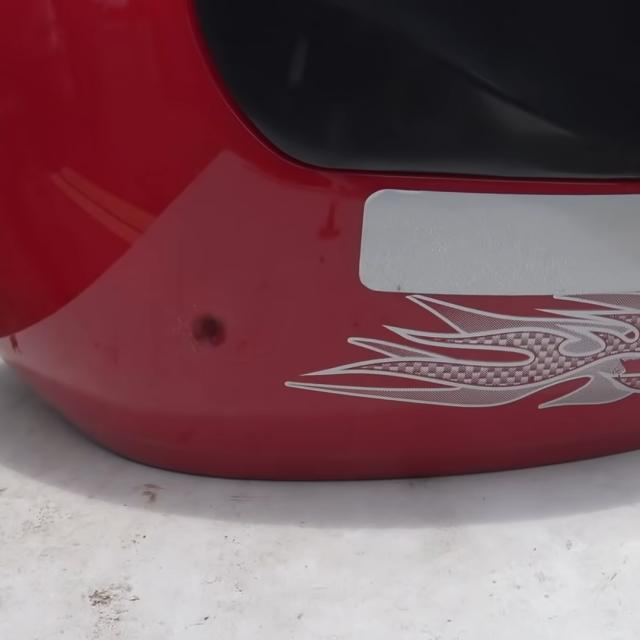bullets: (184, 306, 230, 353)
